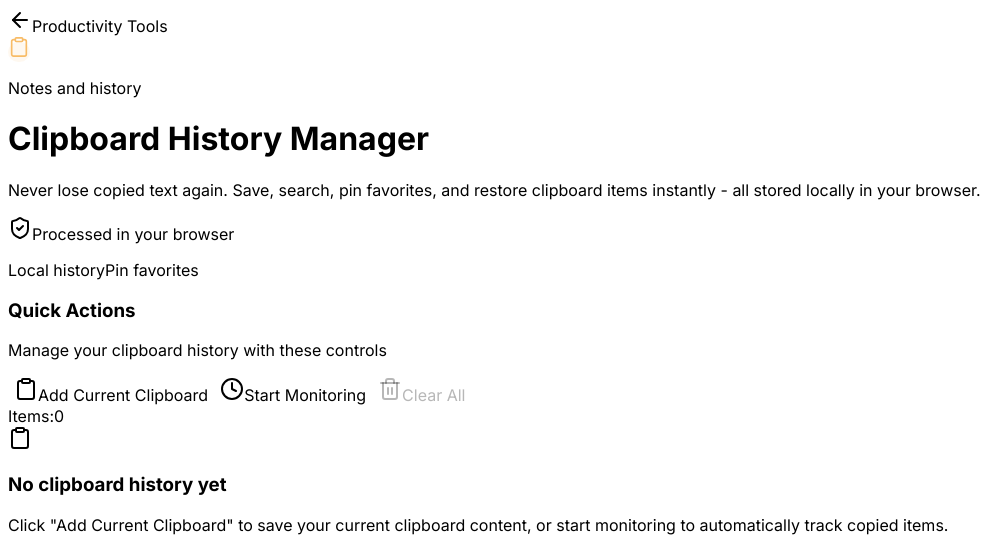
Test: Clipboard History Page - Component Tests › should start monitoring when button clicked
Click the button "Start Monitoring" at (293, 391), box [214,376,372,406]
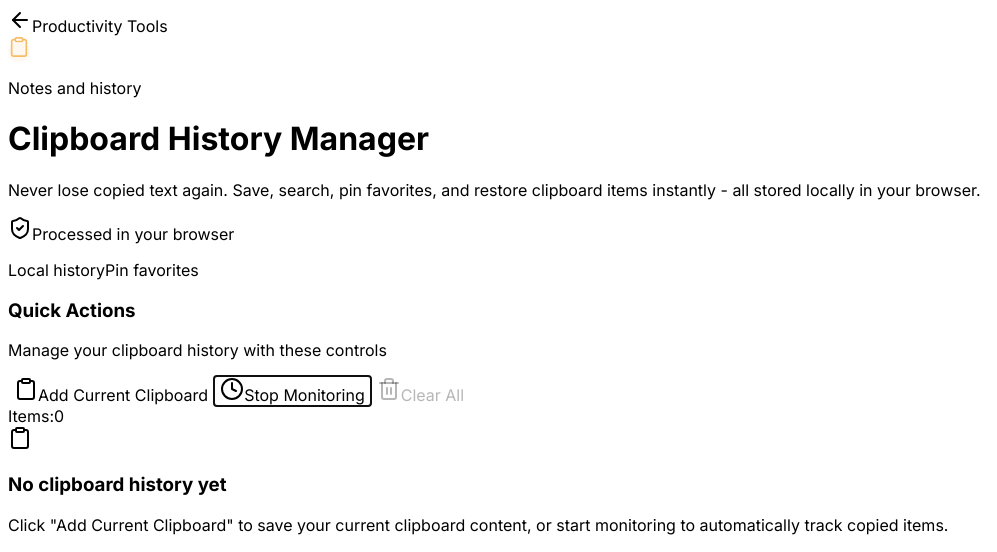
Result: the button "Stop Monitoring" is shown at [214,376,371,406]
